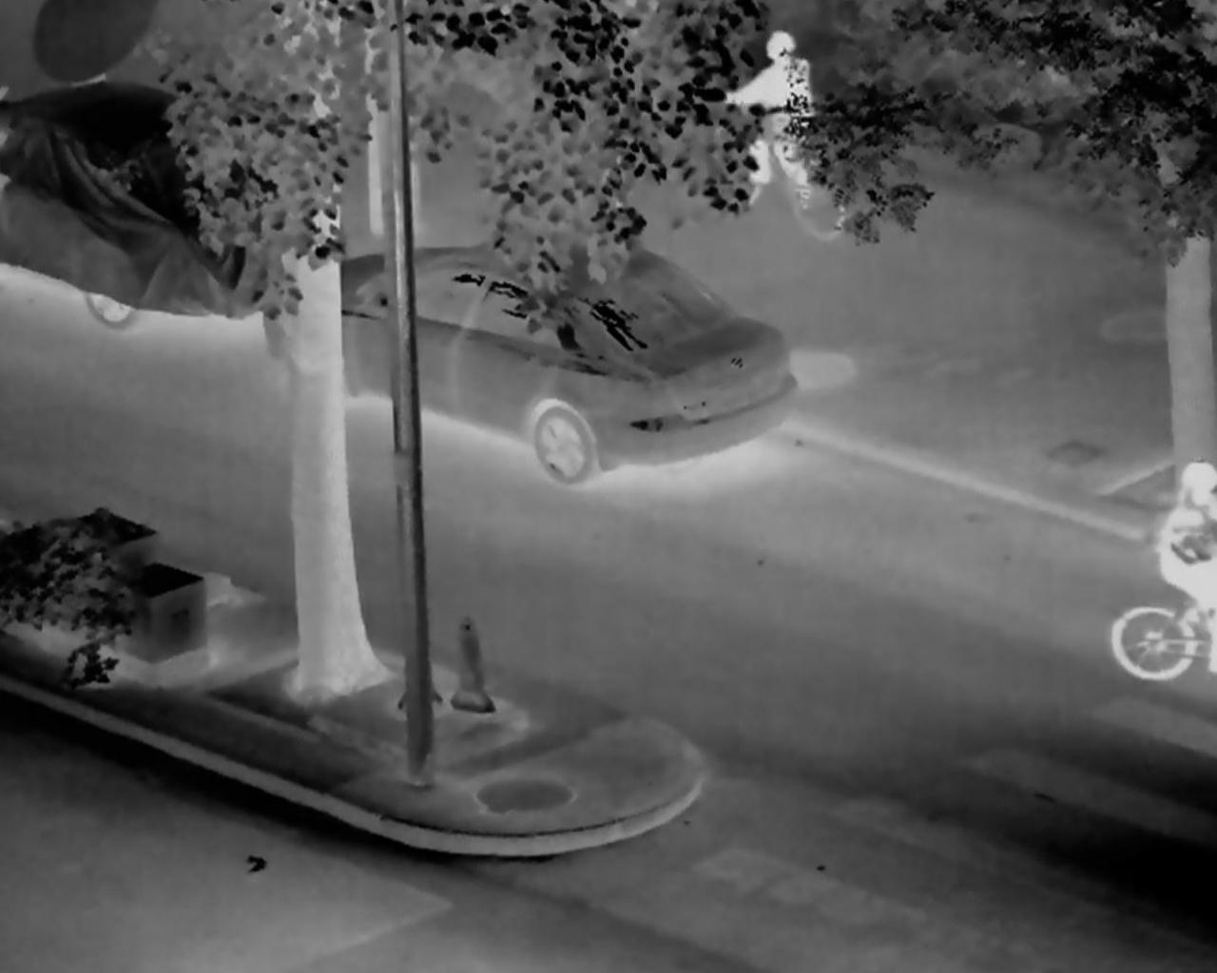person: (712, 33, 814, 196), (1157, 462, 1217, 638)
